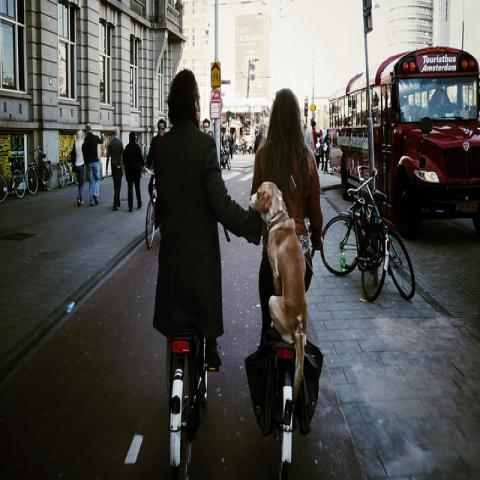bus: (329, 45, 479, 241)
